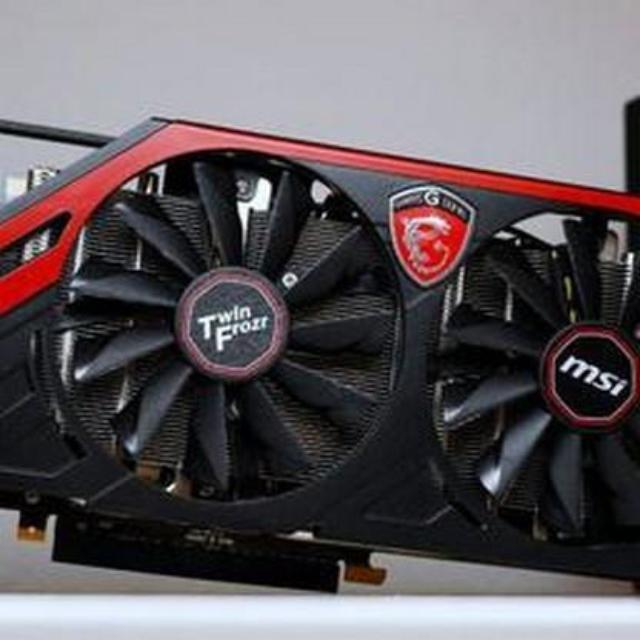GPU: (0, 105, 640, 588)
